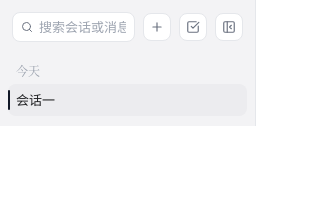
Test: HistorySidebar full-text search (P0-2) › shows an empty state when nothing matches
Type "不存在的词" into the field with placeholder "搜索会话或消息内容…" at (82, 27), box [39,17,126,37]
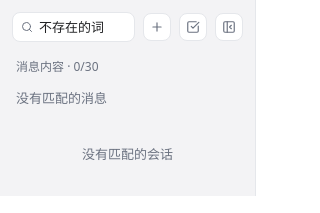
expect the text "没有匹配的消息" is shown: met, box [16,89,107,107]
